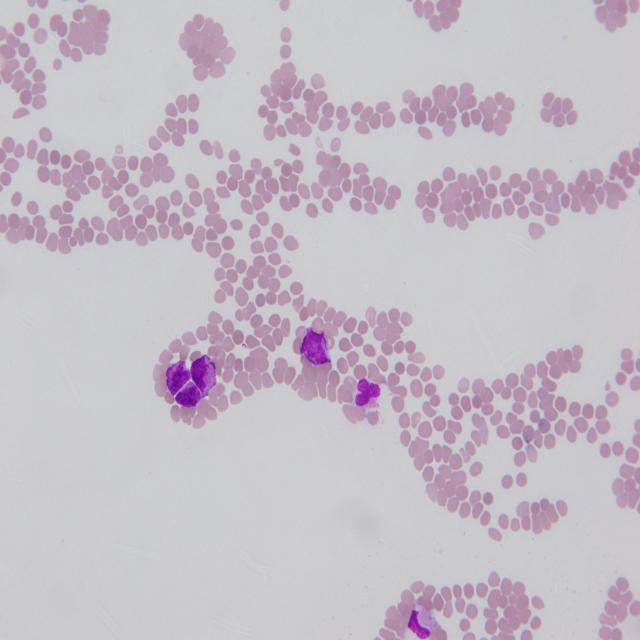cell: (300, 328, 330, 365)
